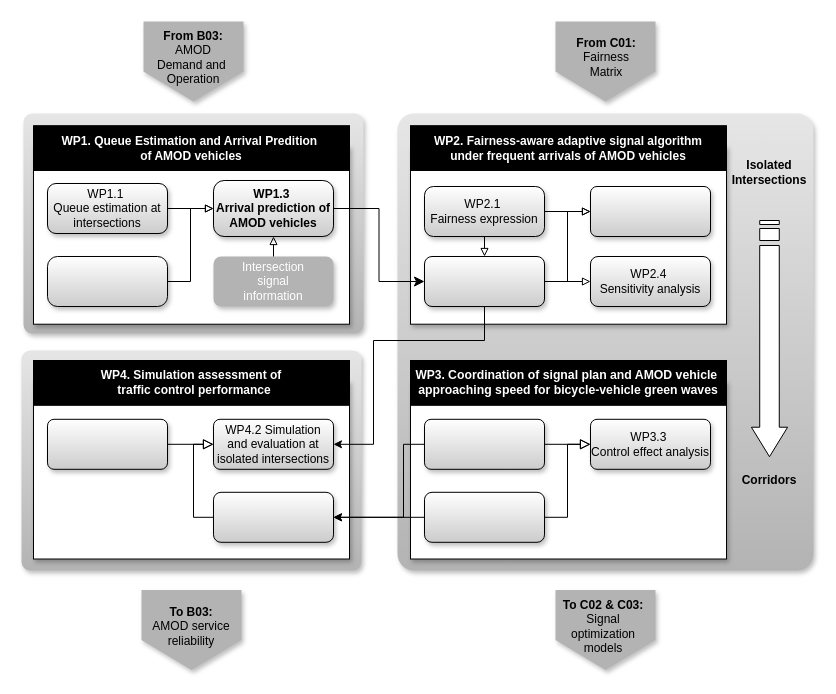
This 836x694 diagram has some shape labels left out. The shapes that lost their labels are listed below. From the top down, each one's centre as x and y in pixels, then its label:
pixel 651 213: WP2.3 Trade-off analysis on multiple objectives
pixel 108 283: WP1.2 AMOD operation and dynamics
pixel 485 283: WP2.2 Adaptive signal algorithm design
pixel 769 338: Signal Coordination
pixel 108 445: WP4.1 Simulation scenario setup
pixel 485 445: WP3.1 Corridor signal optimization model design
pixel 274 518: WP4.3 Simulation and evaluation of the corridor
pixel 485 518: WP3.2 AMOD vehicle approaching speed control
